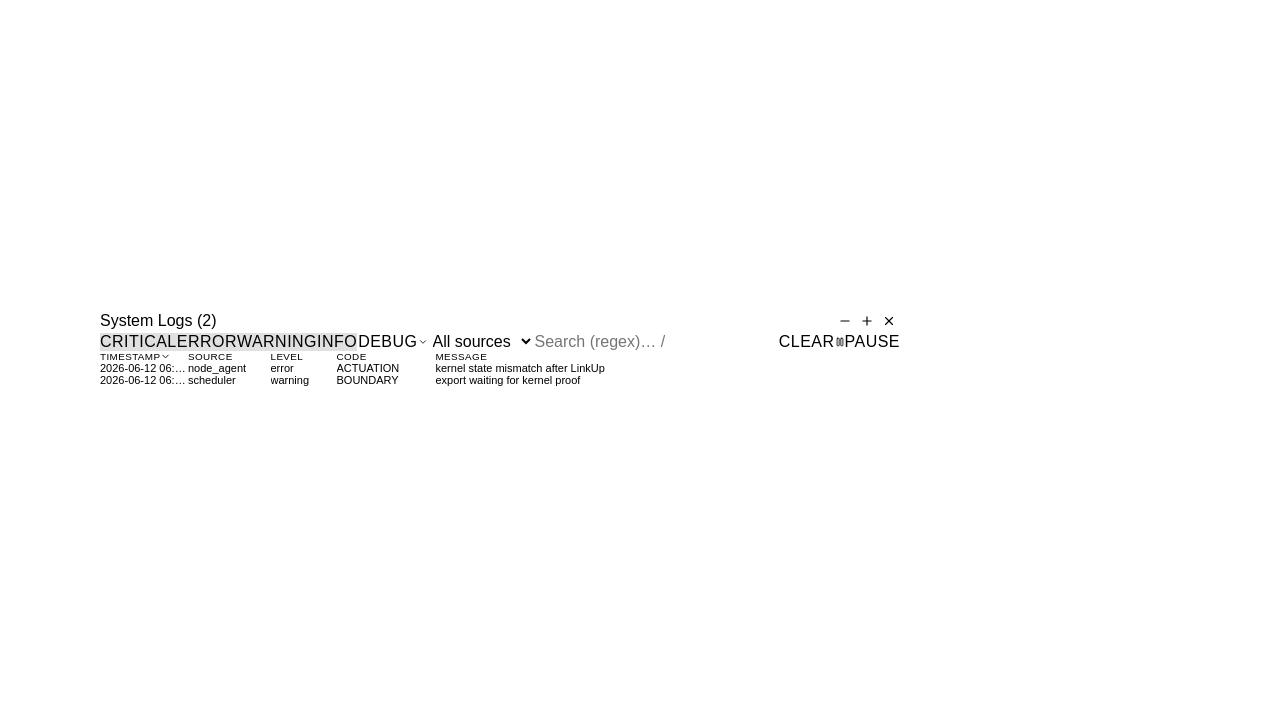
LogPanel › drops the invalid mark when an invalid search is erased
Step 1. Type "(unclosed" into the field with placeholder "Search (regex)… /" → (620,342), box [534,332,704,350]
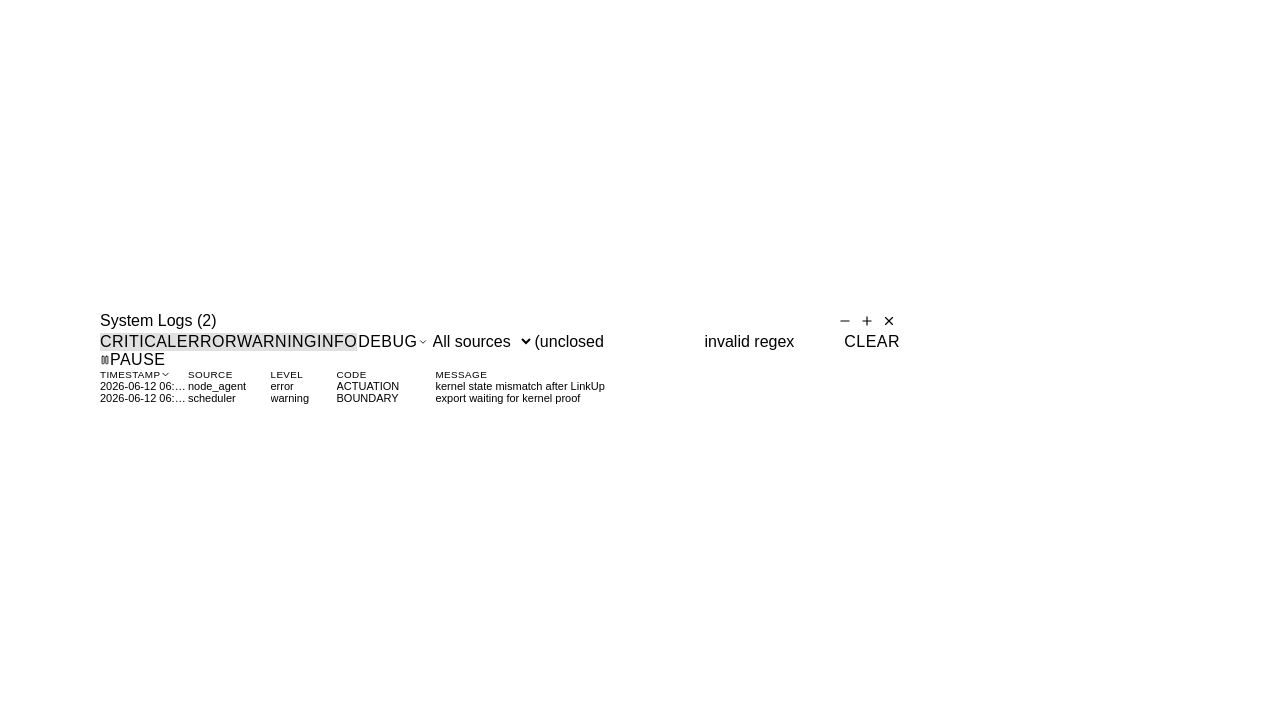
Now the text "invalid regex" is shown, box [704,332,794,350]
Step 2. Clear the field with placeholder "Search (regex)… /" → (620,342), box [534,332,704,350]
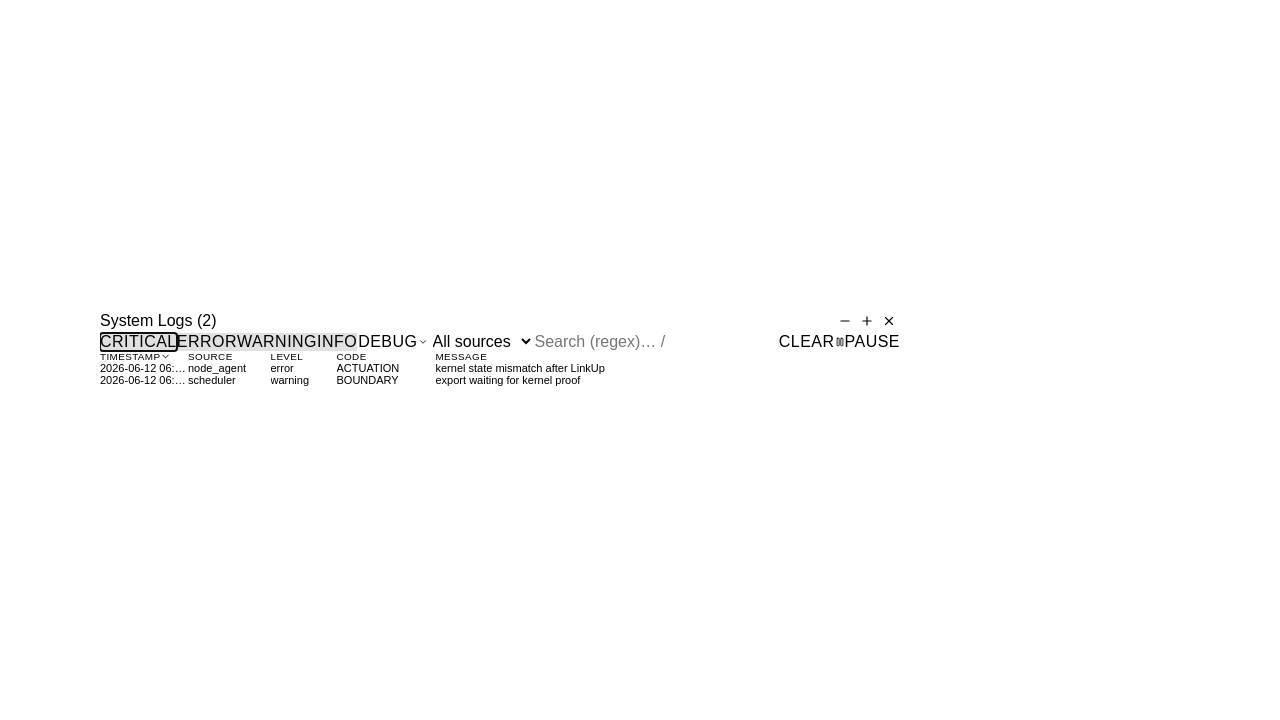
Now the text "invalid regex" is gone
